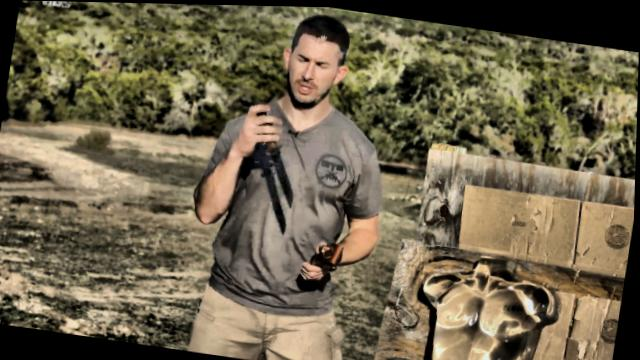knife: (235, 97, 311, 210)
